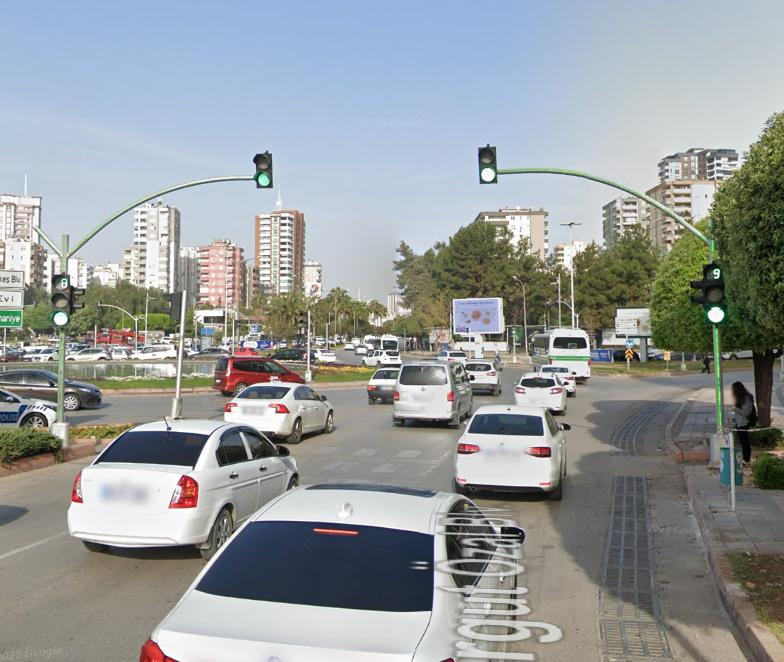greenlight: (702, 259, 729, 326), (51, 274, 73, 336), (252, 148, 277, 189), (477, 145, 498, 185)
